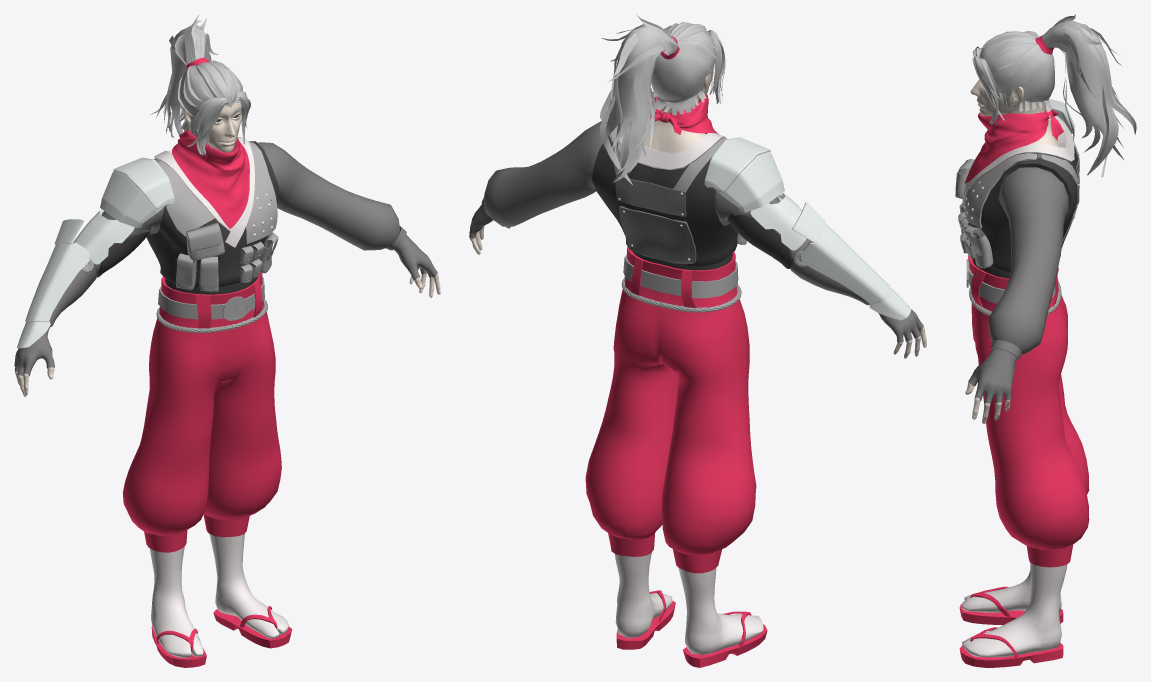
Rendered from Samurai_model_0826.fbx.
3 renders of one model, left to right at view 1: azimuth 30°, elevation 25°; view 2: azimuth 150°, elevation 25°; view 3: azimuth 270°, elevation 25°, orthographic. The views are drawn at different scales.
Visible parts, largest first — view 1: kuzi, shangyi, weijing1, polySurface97, pCube9, pCube11, socks_L, socks_R, polySurface16, polySurface96, pCube10, hair_front (+3 smaller); view 2: kuzi, shangyi, polySurface97, pCube11, pCube9, polySurface96, socks_L, socks_R, polySurface16, pCube10, polySurface14, weijing1 (+2 smaller); view 3: shangyi, kuzi, polySurface97, socks_R, polySurface96, weijing1, polySurface16, shoes_R, socks_L, shoes_L, hair_front, pCube9.
Part boxes in pixels (box(x1,y1,x2,y2)): kuzi: box(123, 272, 281, 552); shangyi: box(14, 136, 437, 376); weijing1: box(172, 128, 249, 229); polySurface97: box(150, 15, 243, 137); pCube9: box(100, 157, 174, 227); pCube11: box(17, 219, 89, 348); socks_L: box(150, 547, 203, 657); socks_R: box(209, 533, 288, 638); polySurface16: box(15, 100, 440, 396); polySurface96: box(179, 61, 242, 131); pCube10: box(72, 209, 134, 264); hair_front: box(186, 91, 250, 156); kuzi: box(585, 246, 756, 573); shangyi: box(469, 121, 923, 342); polySurface97: box(599, 14, 717, 184); pCube11: box(792, 202, 911, 320); pCube9: box(704, 137, 784, 212); polySurface96: box(651, 23, 715, 115); socks_L: box(678, 567, 763, 654); socks_R: box(615, 552, 672, 638); polySurface16: box(469, 51, 926, 358); pCube10: box(750, 192, 806, 250); polySurface14: box(727, 213, 793, 268); weijing1: box(650, 94, 718, 134); shangyi: box(955, 115, 1079, 403); kuzi: box(966, 255, 1089, 567); polySurface97: box(980, 14, 1136, 177); socks_R: box(962, 563, 1067, 657); polySurface96: box(981, 32, 1054, 112); weijing1: box(965, 105, 1064, 183); polySurface16: box(965, 79, 1059, 423); shoes_R: box(959, 627, 1063, 667); socks_L: box(962, 566, 1061, 612); shoes_L: box(959, 586, 1063, 625); hair_front: box(972, 46, 1045, 125); pCube9: box(1049, 98, 1074, 133).
Bounding box in the file's own units: 142 × 196 × 50.78.
